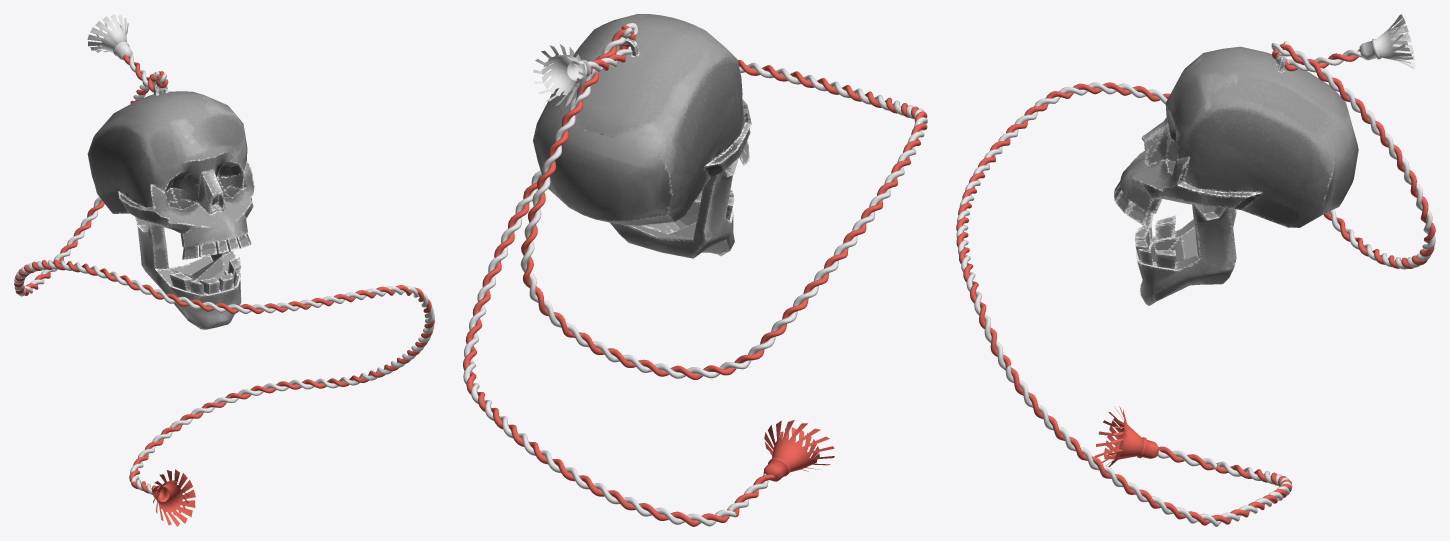
The model's file is Craniu martisor.fbx.
The picture shows the model from 3 angles, left to right: view 1: azimuth 30°, elevation 25°; view 2: azimuth 150°, elevation 25°; view 3: azimuth 270°, elevation 25°; orthographic projection. The views are drawn at different scales.
Parts seen in each view (by area): view 1: Cube.008, Cube.009, White string, Red string, Ciucurel rosu, Ciucurel alb; view 2: Cube.008, White string, Red string, Cube.009, Ciucurel rosu, Ciucurel alb; view 3: Cube.008, White string, Red string, Cube.009, Ciucurel rosu, Ciucurel alb.
Boxes of the visible parts, bbox=[...] form: Cube.008: bbox=[87, 81, 254, 259]; Cube.009: bbox=[135, 216, 241, 329]; White string: bbox=[14, 55, 434, 495]; Red string: bbox=[14, 55, 434, 493]; Ciucurel rosu: bbox=[152, 469, 195, 526]; Ciucurel alb: bbox=[87, 14, 132, 60]; Cube.008: bbox=[533, 14, 751, 225]; White string: bbox=[463, 23, 927, 526]; Red string: bbox=[463, 25, 927, 526]; Cube.009: bbox=[610, 158, 738, 258]; Ciucurel rosu: bbox=[763, 420, 834, 481]; Ciucurel alb: bbox=[533, 44, 591, 106]; Cube.008: bbox=[1114, 46, 1358, 227]; White string: bbox=[956, 41, 1435, 526]; Red string: bbox=[956, 43, 1435, 525]; Cube.009: bbox=[1135, 204, 1236, 305]; Ciucurel rosu: bbox=[1094, 406, 1159, 466]; Ciucurel alb: bbox=[1359, 14, 1415, 69].
Size of the model in its own units: 406 by 474 by 424.
